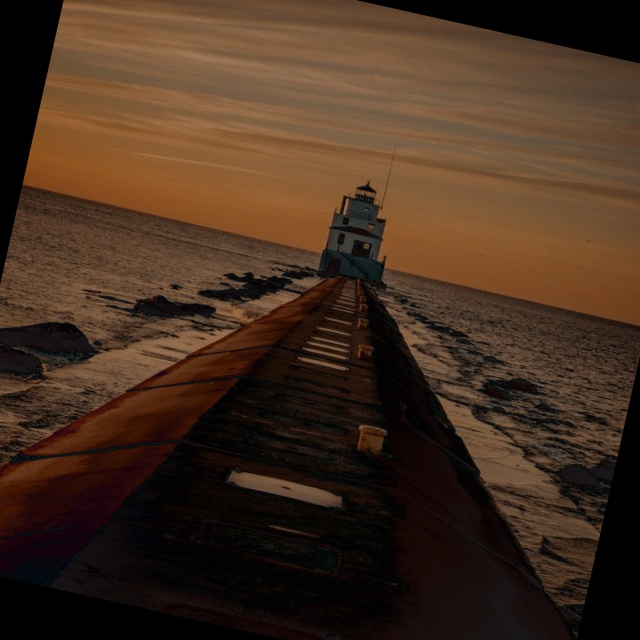clean_water: (13, 13, 627, 627)
oil_spill: (148, 494, 404, 616), (558, 366, 640, 640), (0, 578, 276, 640)
turbid_water: (0, 0, 640, 606)
